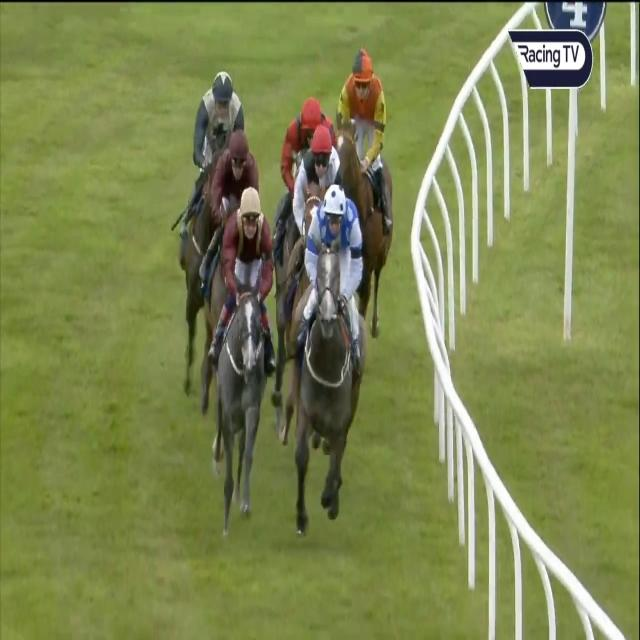horses-racing: (291, 185, 371, 560), (211, 189, 270, 541), (338, 45, 408, 332), (200, 132, 260, 258), (276, 97, 344, 190), (189, 70, 259, 160), (296, 124, 350, 227)
